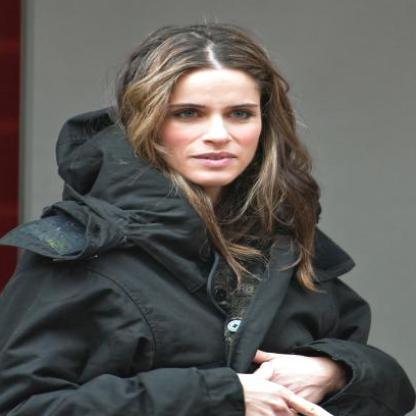person: (13, 20, 376, 414)
